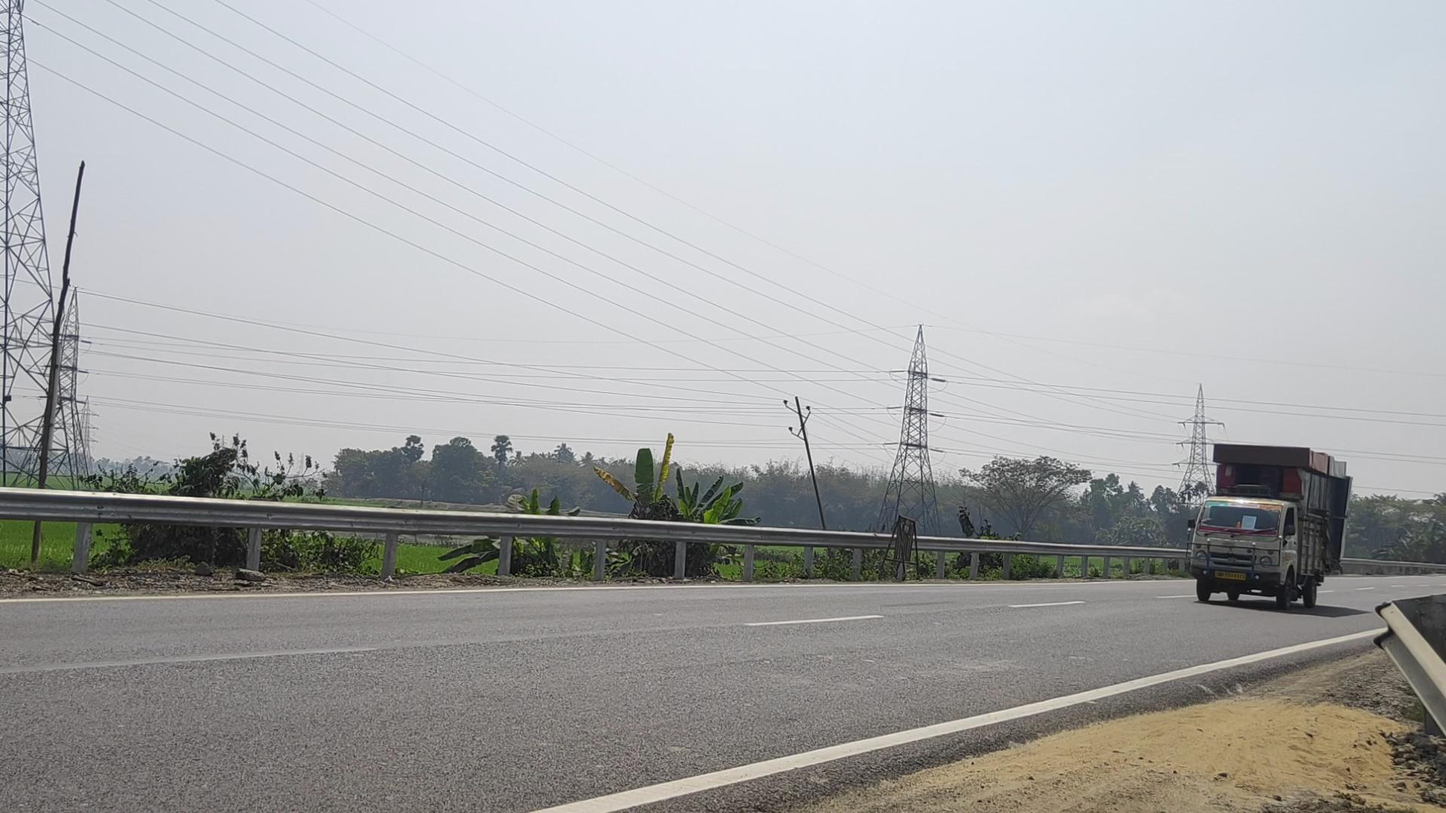van: (1185, 443, 1353, 611)
